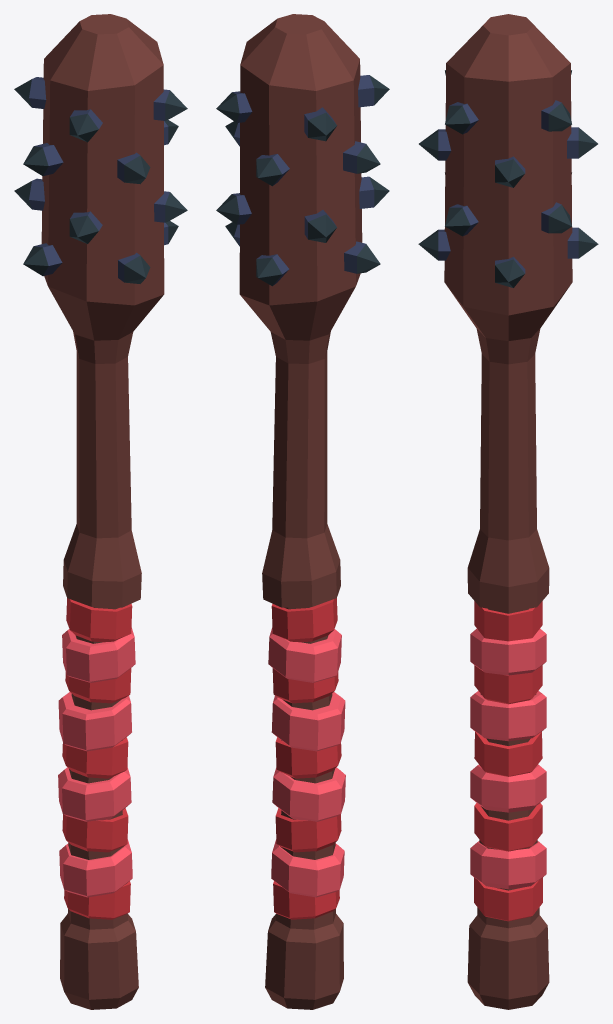
Rendered from Mace_02.fbx.
3 views of the same model, side by side, from view 1: azimuth 30°, elevation 25°; view 2: azimuth 150°, elevation 25°; view 3: azimuth 270°, elevation 25° (orthographic).
Parts seen in each view (by area): view 1: Mace 02; view 2: Mace 02; view 3: Mace 02.
Boxes of the visible parts, x1=… form: Mace 02: x1=14, y1=14, x2=187, y2=1009; Mace 02: x1=216, y1=14, x2=389, y2=1009; Mace 02: x1=418, y1=14, x2=598, y2=1009.
Bounding box in the file's own units: 19.53 × 116 × 19.53.
